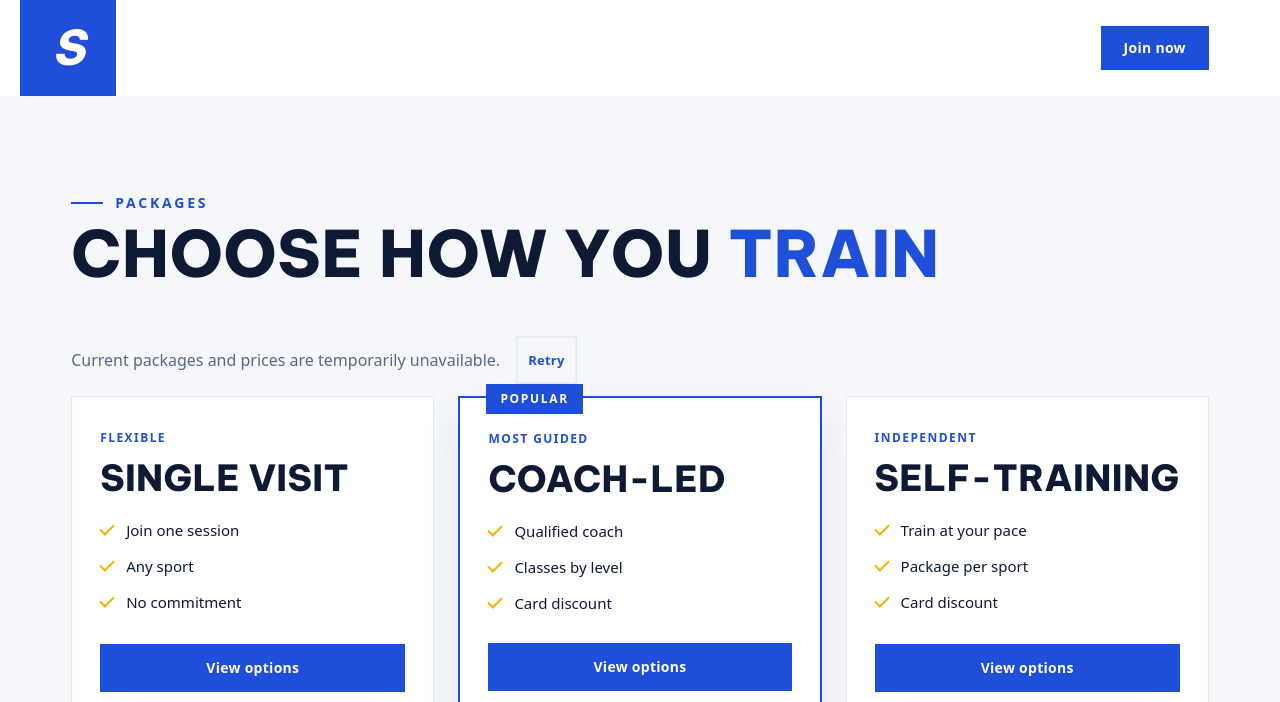
it: public Home › shows recoverable catalogue errors while all main Home sections stay visible
This screenshot has width=1280, height=702.
(page scrolled)
Click the button "Retry" at [546, 360], box [516,336,577,384]
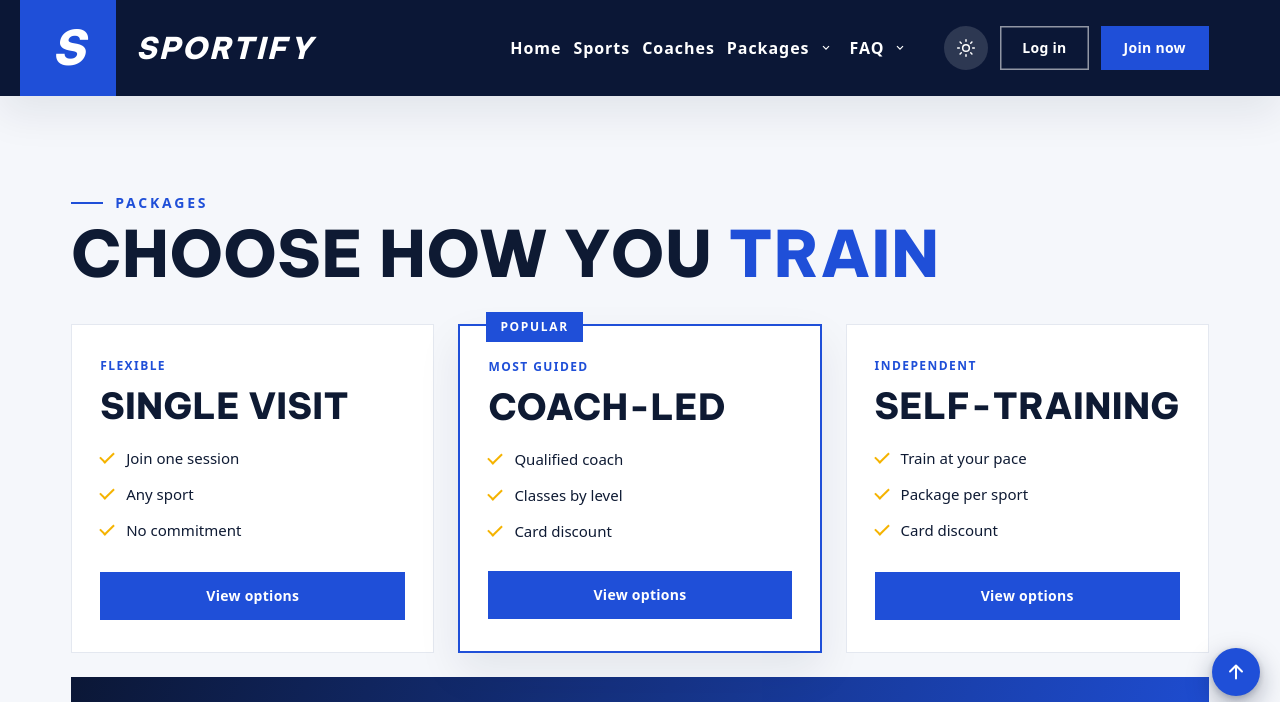
Now the link with aria-label "View options for Football Independent" is shown, box [875,572,1180,620]
